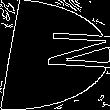N_W: (4, 32, 106, 78)
